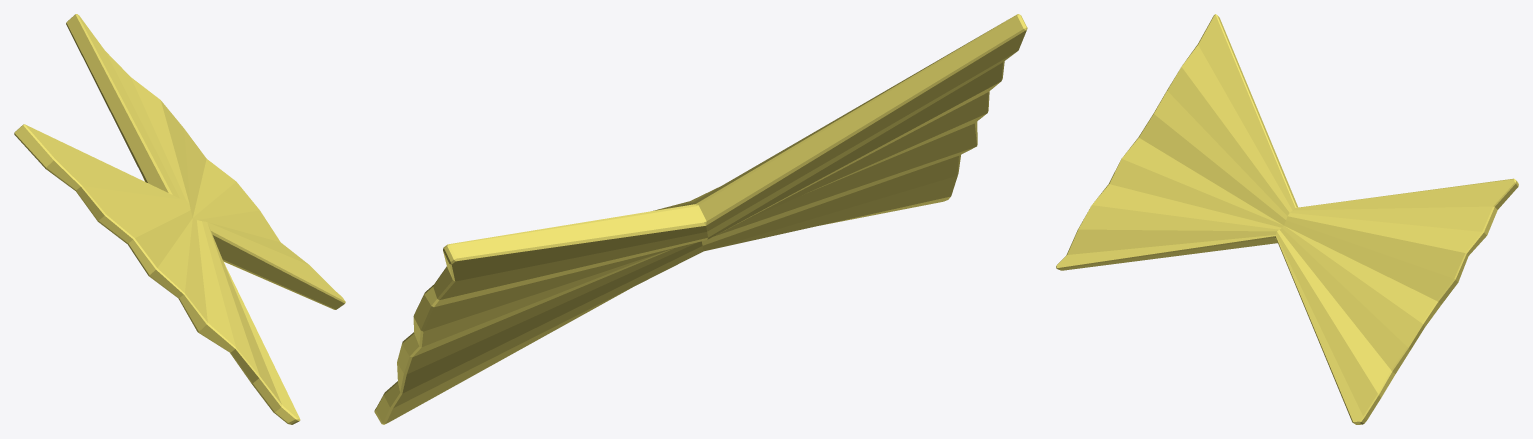
3 views of the same model, side by side, from view 1: azimuth 30°, elevation 25°; view 2: azimuth 150°, elevation 25°; view 3: azimuth 270°, elevation 25° (orthographic). The views are drawn at different scales.
Parts seen in each view (by area): view 1: Plane.011; view 2: Plane.011; view 3: Plane.011.
Part boxes in pixels (<box>): Plane.011: <box>14,14,345,424</box>; Plane.011: <box>374,14,1027,424</box>; Plane.011: <box>1056,14,1518,424</box>.
Bounding box in the file's own units: 1.89 × 1.51 × 2.41.
